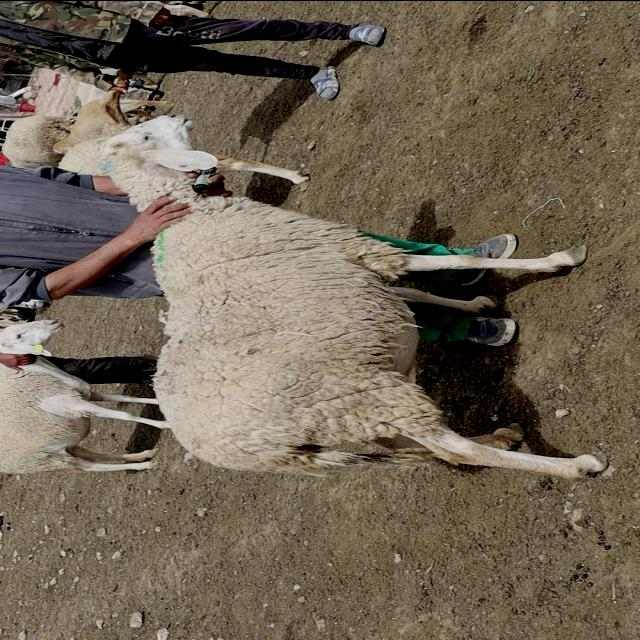Score_4: (101, 115, 606, 477)
